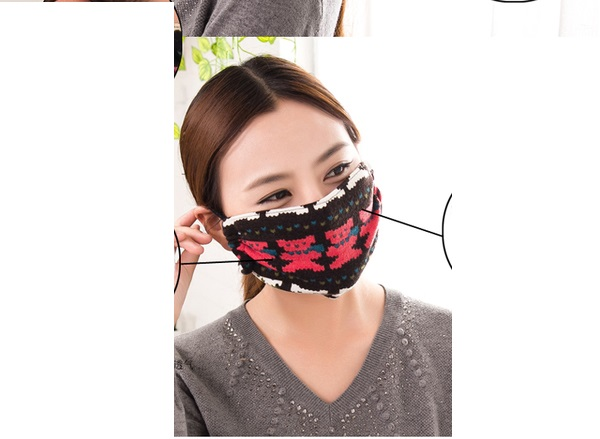face_mask: (225, 116, 382, 292)
